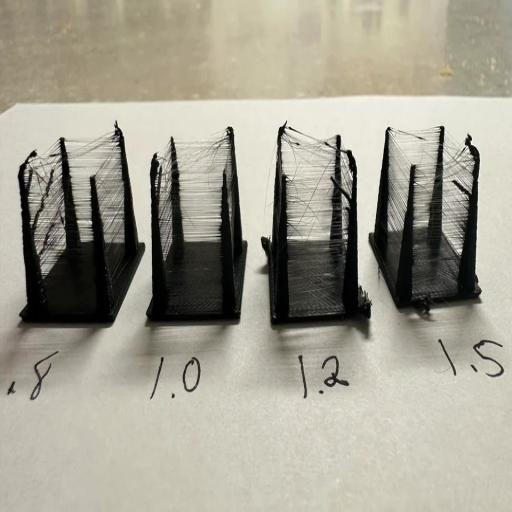stringing: (21, 136, 65, 279), (282, 125, 335, 242), (66, 133, 122, 240), (390, 128, 440, 236), (95, 139, 130, 290), (176, 143, 228, 243), (25, 173, 69, 281), (441, 129, 478, 257), (387, 132, 411, 277), (155, 142, 173, 264), (72, 175, 92, 241), (341, 141, 352, 250), (224, 141, 233, 245)
